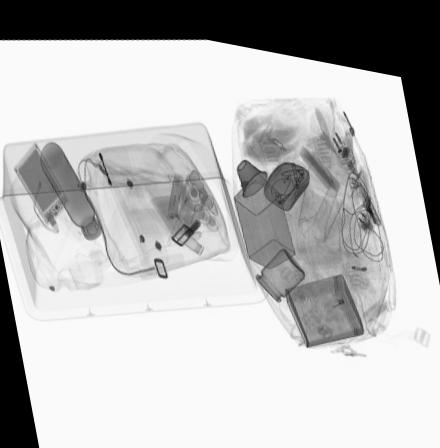Powerbank: (9, 136, 71, 222)
